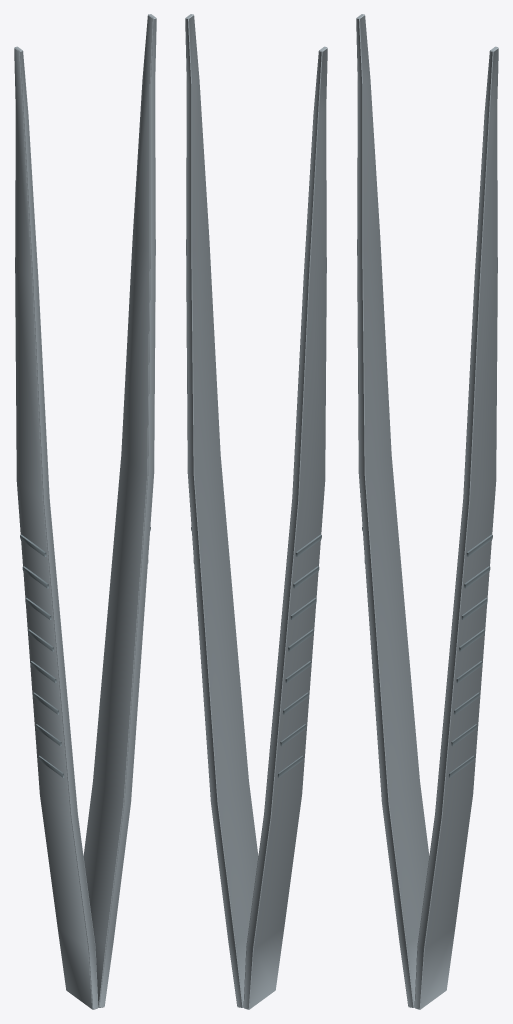
The model's file is VLAB_forceps.fbx.
3 views of the same model, side by side, from view 1: azimuth 30°, elevation 25°; view 2: azimuth 150°, elevation 25°; view 3: azimuth 330°, elevation 25° (orthographic).
Visible parts, largest first — view 1: VLAB_forceps_ArmR_VIS, VLAB_forceps_ArmL_VIS; view 2: VLAB_forceps_ArmR_VIS, VLAB_forceps_ArmL_VIS; view 3: VLAB_forceps_ArmL_VIS, VLAB_forceps_ArmR_VIS.
Boxes of the visible parts, bbox=[...] form: VLAB_forceps_ArmR_VIS: bbox=[83, 14, 156, 1007]; VLAB_forceps_ArmL_VIS: bbox=[14, 46, 98, 1009]; VLAB_forceps_ArmR_VIS: bbox=[185, 14, 258, 1007]; VLAB_forceps_ArmL_VIS: bbox=[243, 46, 327, 1009]; VLAB_forceps_ArmL_VIS: bbox=[356, 14, 429, 1007]; VLAB_forceps_ArmR_VIS: bbox=[414, 46, 498, 1009].
Bounding box in the file's own units: 0.0178 × 0.1197 × 0.007.
